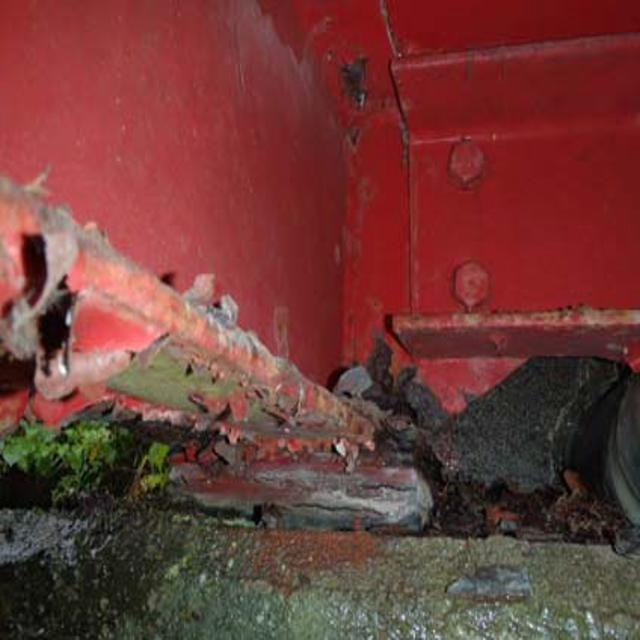corrosion: (56, 254, 590, 570)
